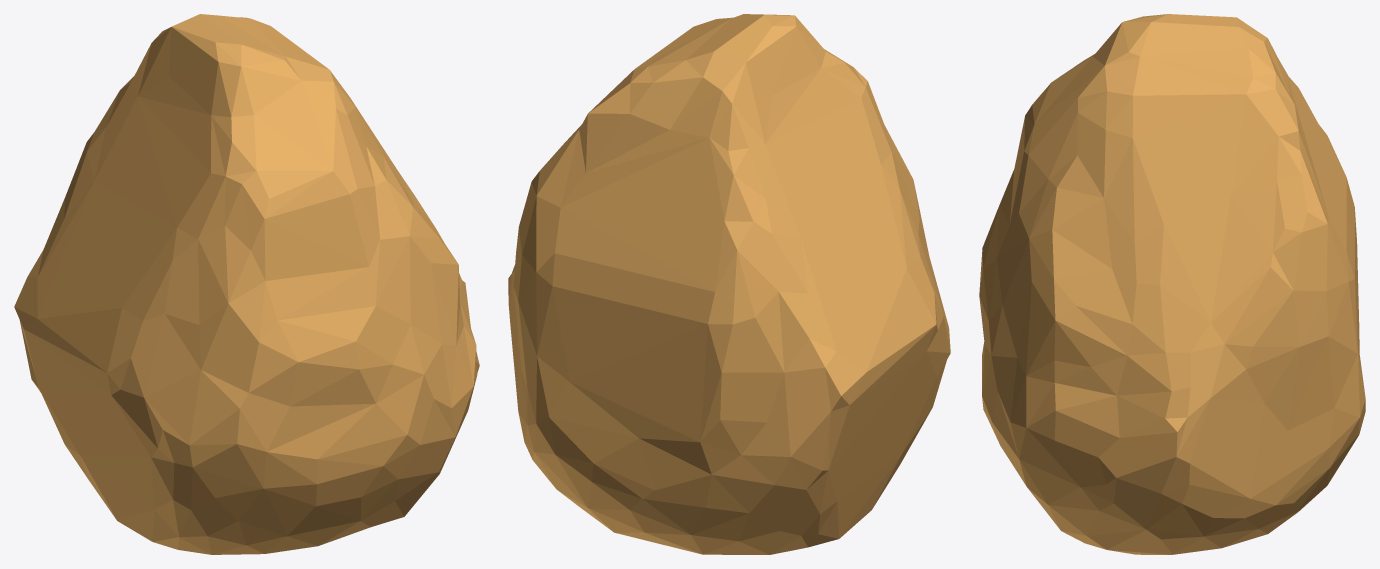
The model's file is Rock3.fbx.
3 views of the same model, side by side, from view 1: azimuth 30°, elevation 25°; view 2: azimuth 150°, elevation 25°; view 3: azimuth 270°, elevation 25° (orthographic). The views are drawn at different scales.
Visible parts, largest first — view 1: Sphere.022; view 2: Sphere.022; view 3: Sphere.022.
Boxes of the visible parts, x1,y1,x2,y2 form: Sphere.022: (14, 14, 479, 554); Sphere.022: (508, 14, 950, 554); Sphere.022: (979, 14, 1365, 554).
Size of the model in its own units: 146 by 173 by 129.
